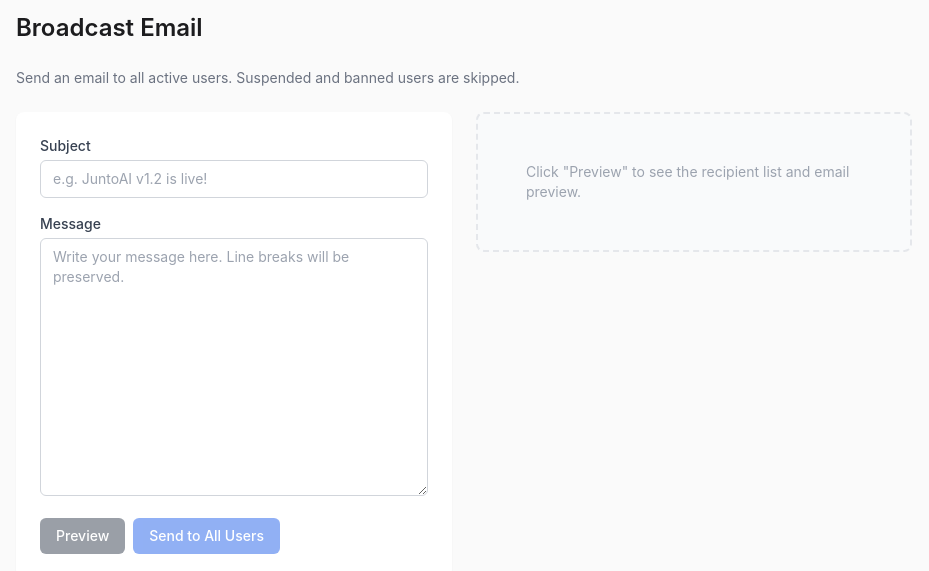
Test: AdminBroadcastPage › shows empty recipients message when no active users
In the field labelled "Subject": {"x": 234, "y": 179} [40,160,428,198], type "Hi"
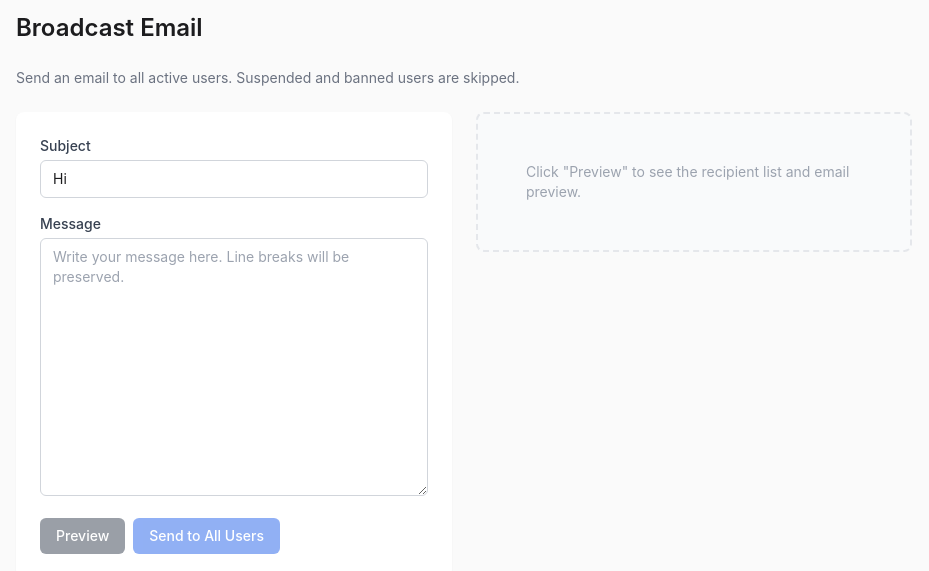
In the text box labelled "Message": {"x": 234, "y": 367} [40,238,428,496], type "Hi"
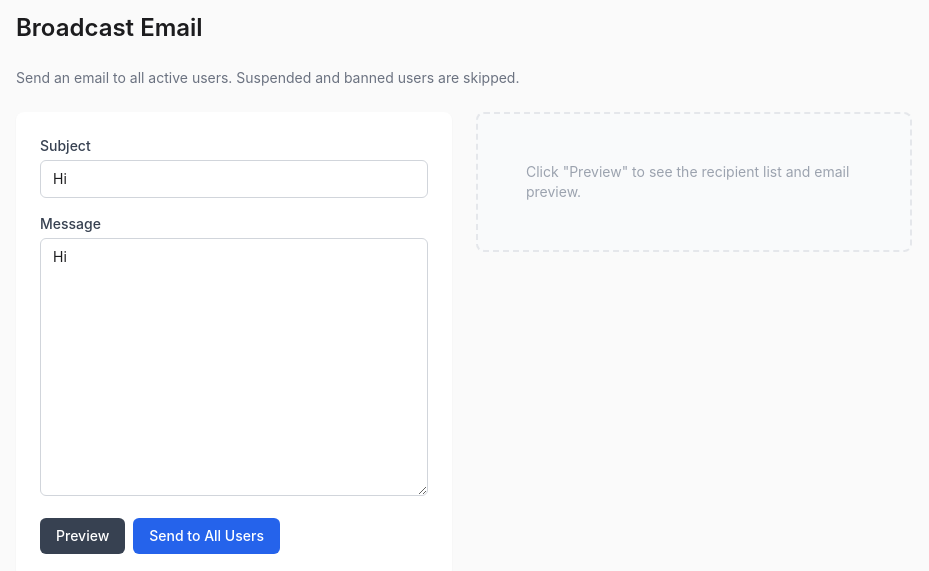
Click the button "Preview": {"x": 83, "y": 536} [40,518,125,554]
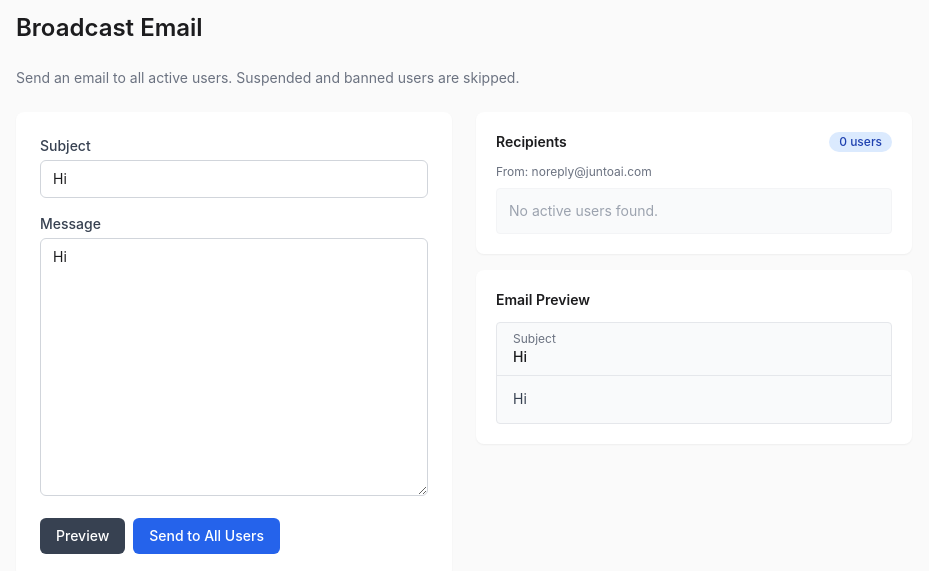
Now the text "No active users found." is shown, box [509,202,658,219]
